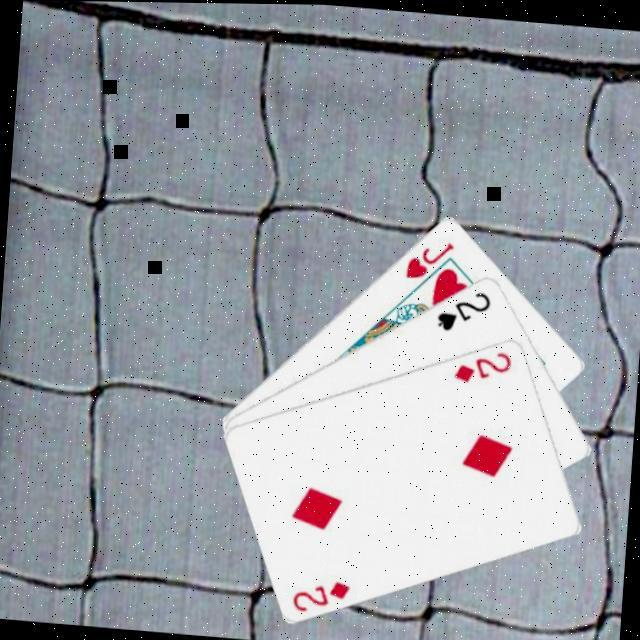2D: (286, 573, 351, 618), (448, 345, 513, 389)
2S: (430, 284, 492, 337)
JH: (400, 234, 455, 285)
